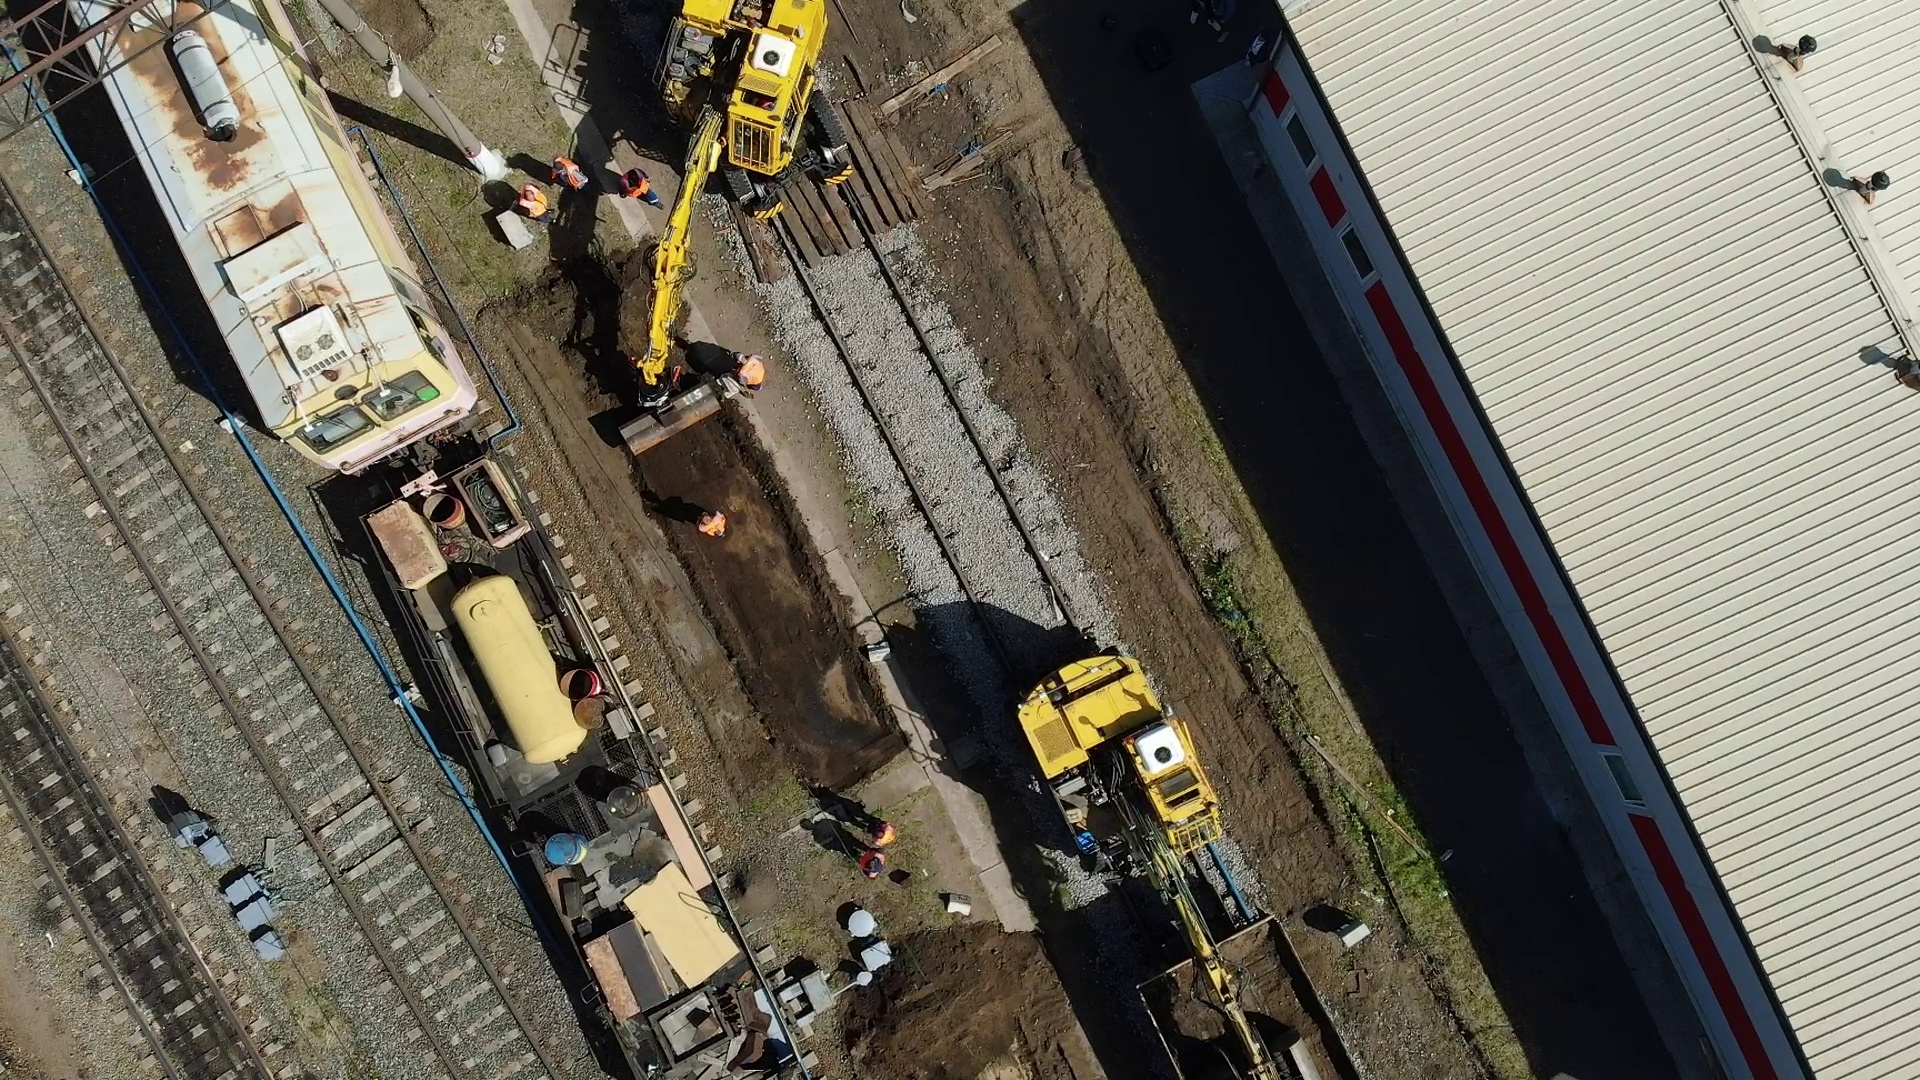kjtv: (1018, 630, 1233, 905), (632, 1, 835, 239)
